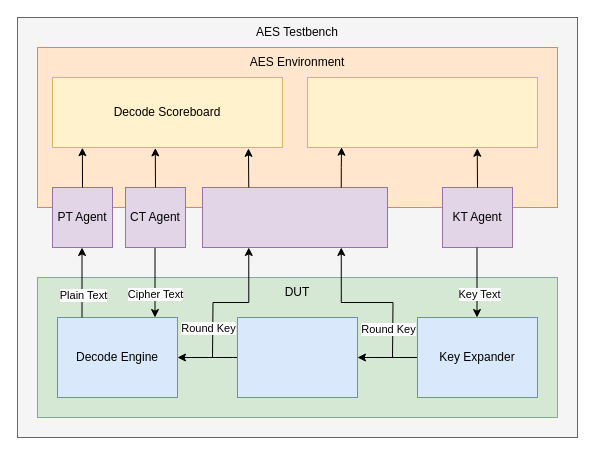
Some shapes in this 595 by 455 pixel diagram are drawn without their labels. Each missing label, with the centre of its shape:
Expand Scoreboard: point (422, 112)
Key Schedule Buffer: point (297, 357)
RKey Agent: point (295, 217)
